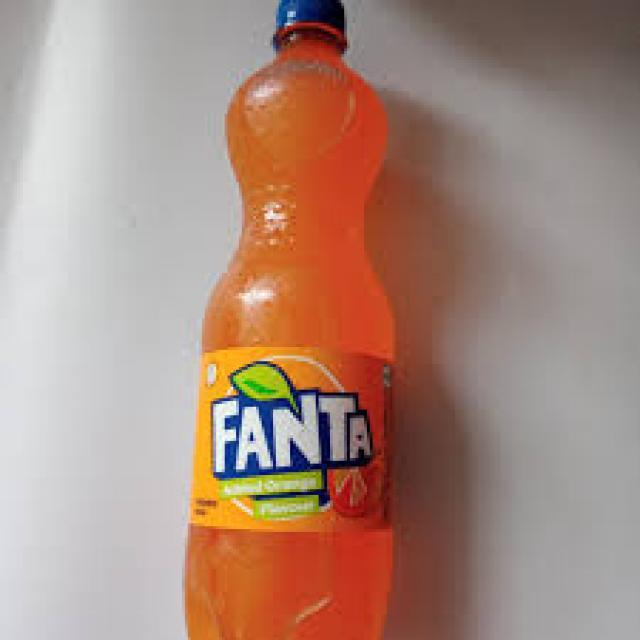Fanta: (179, 5, 403, 640)
